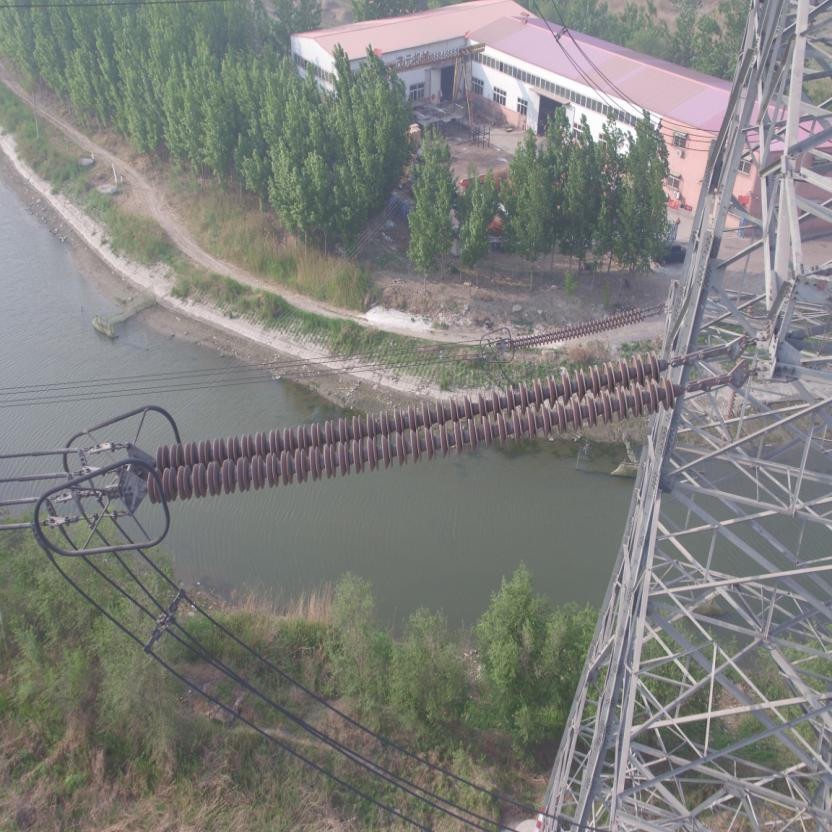insulator: (139, 346, 704, 510), (504, 302, 654, 350)
